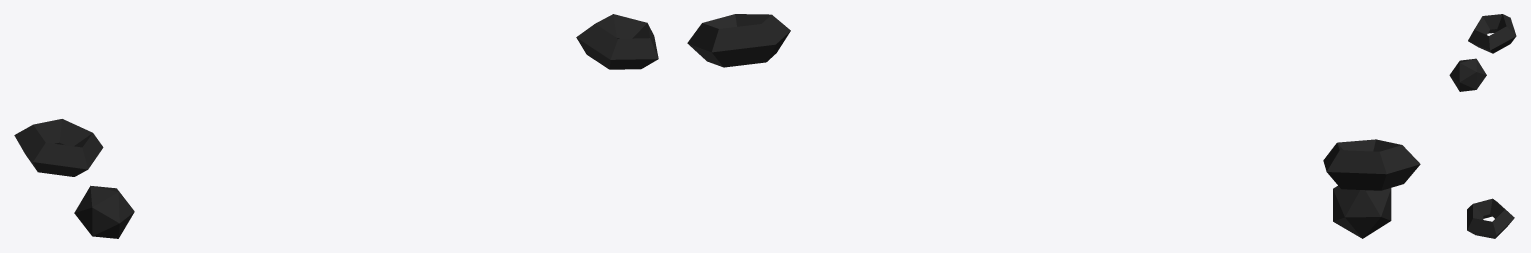
Rendered from SM_Chr_Attach_Earrings_Male_01.fbx.
3 renders of one model, left to right at view 1: azimuth 30°, elevation 25°; view 2: azimuth 150°, elevation 25°; view 3: azimuth 270°, elevation 25°, orthographic. The views are drawn at different scales.
Parts seen in each view (by area): view 1: SM_Chr_Attach_Earrings_Male_01; view 2: SM_Chr_Attach_Earrings_Male_01; view 3: SM_Chr_Attach_Earrings_Male_01.
Part boxes in pixels (x1,y1,x2,y2): SM_Chr_Attach_Earrings_Male_01: [14, 14, 658, 238]; SM_Chr_Attach_Earrings_Male_01: [687, 14, 1420, 238]; SM_Chr_Attach_Earrings_Male_01: [1449, 14, 1516, 238].
Bounding box in the file's own units: 29.55 × 4.51 × 4.38.
